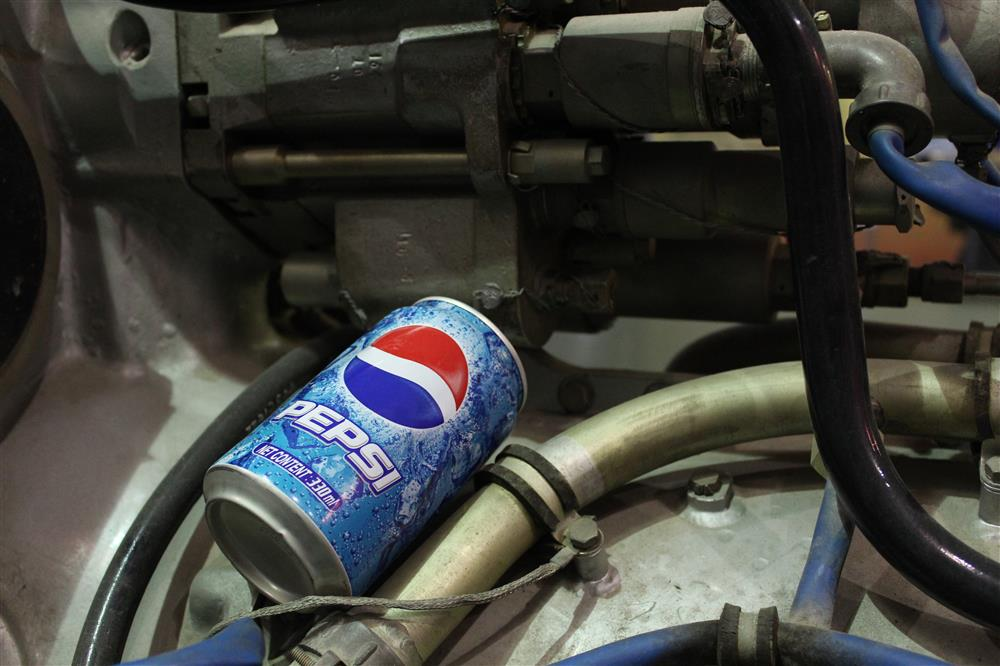sprike: (205, 294, 527, 616)
